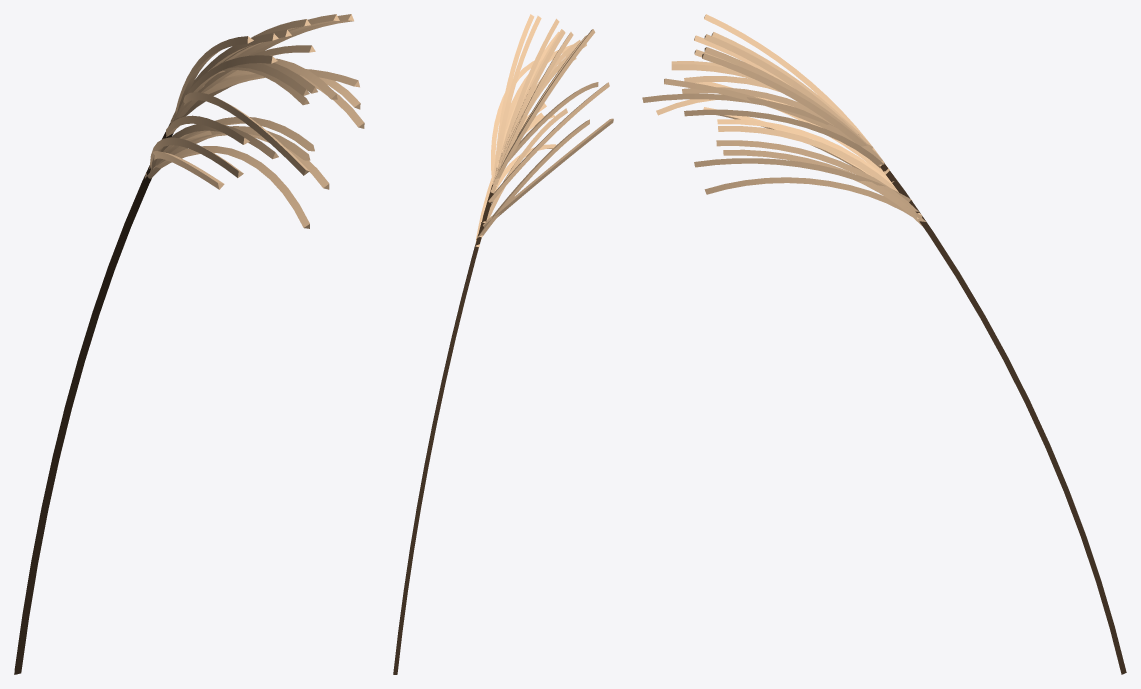
Rendered from 1Reed.FBX.
3 views of the same model, side by side, from view 1: azimuth 30°, elevation 25°; view 2: azimuth 150°, elevation 25°; view 3: azimuth 270°, elevation 25° (orthographic). The views are drawn at different scales.
Parts seen in each view (by area): view 1: Line041; view 2: Line041; view 3: Line041.
Part boxes in pixels (x1,y1,x2,y2): Line041: (14, 14, 364, 674); Line041: (393, 14, 613, 674); Line041: (642, 14, 1126, 674).
Size of the model in its own units: 17.17 by 103 by 70.31.
